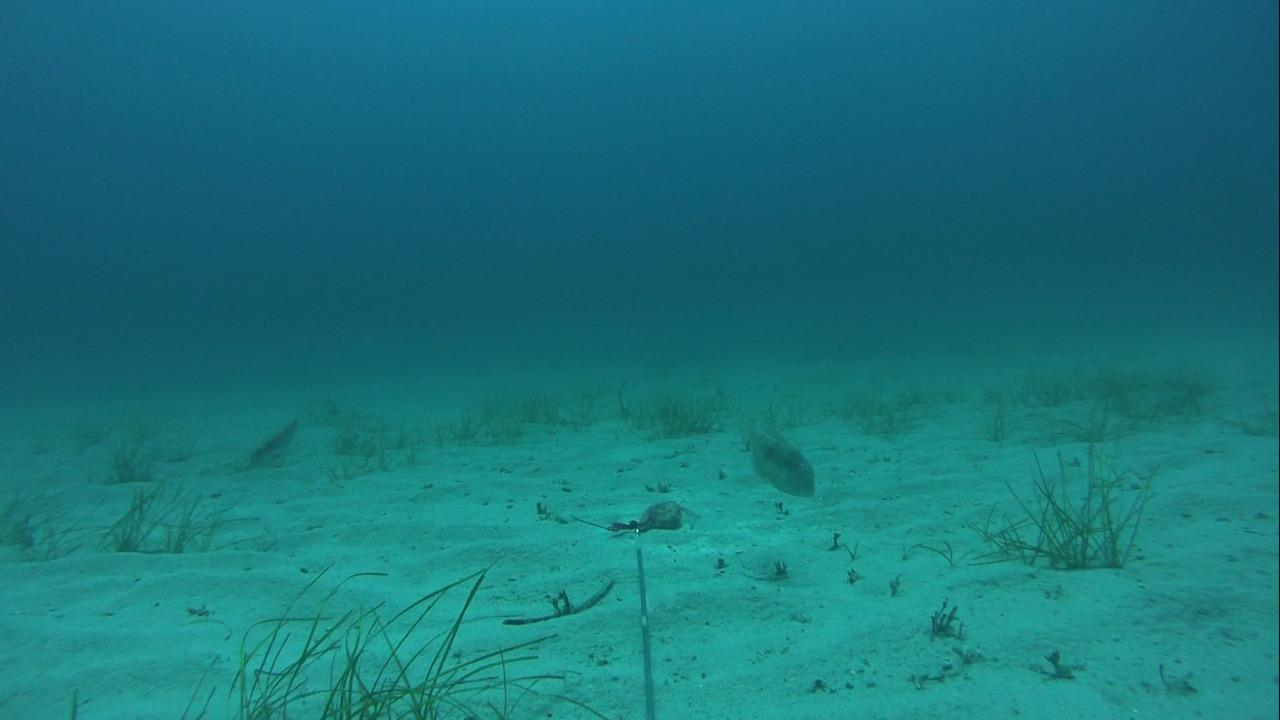raor: (726, 418, 819, 502)
